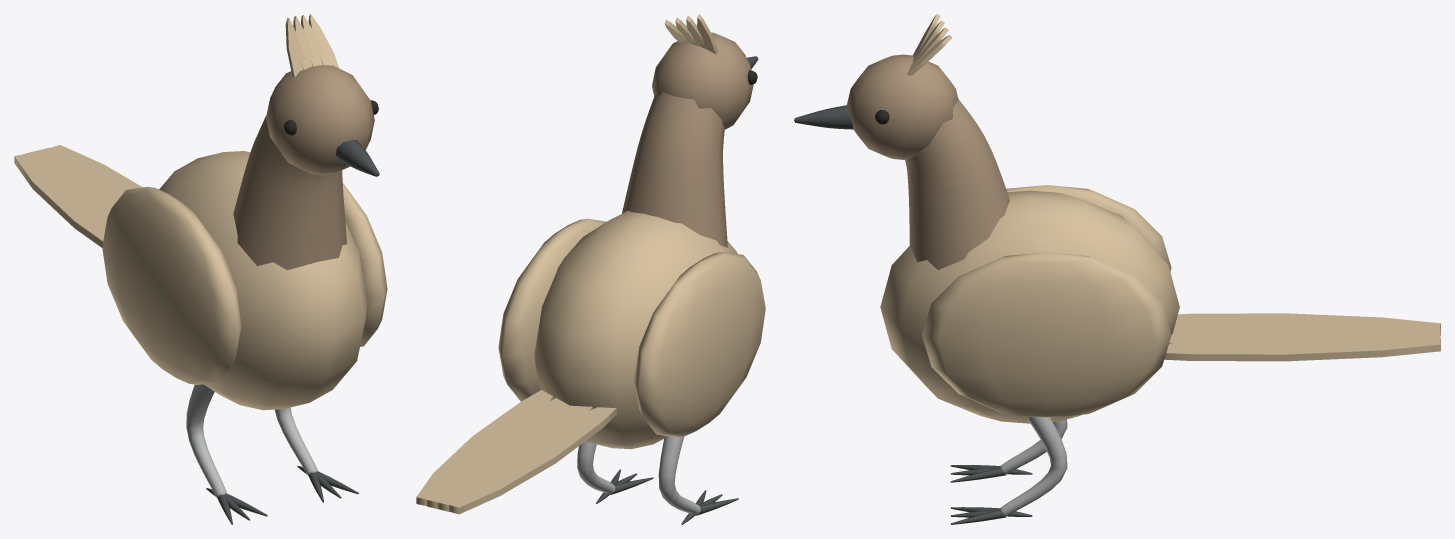
File: birds-and-flying-creatures-greater-roadrunner-aa93c579__20641.glb
3 views of the same model, side by side, from view 1: azimuth 30°, elevation 25°; view 2: azimuth 150°, elevation 25°; view 3: azimuth 270°, elevation 25° (orthographic). The views are drawn at different scales.
Visible parts, largest first — view 1: greater-roadrunner; view 2: greater-roadrunner; view 3: greater-roadrunner.
Boxes of the visible parts, bbox=[...] form: greater-roadrunner: bbox=[14, 14, 387, 524]; greater-roadrunner: bbox=[416, 14, 765, 524]; greater-roadrunner: bbox=[794, 14, 1440, 524].
Bounding box in the file's own units: 0.2504 × 0.6054 × 0.7459.
